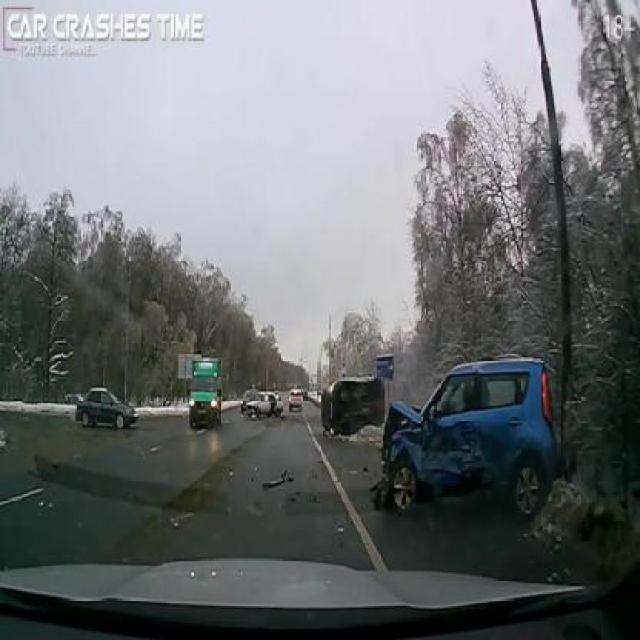Car Accident Detector - v4 Generation1 Exported: (318, 357, 556, 512)
